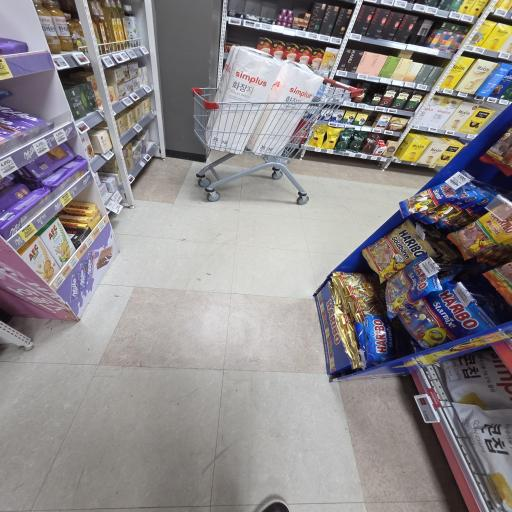fully_cart: (193, 48, 378, 207)
